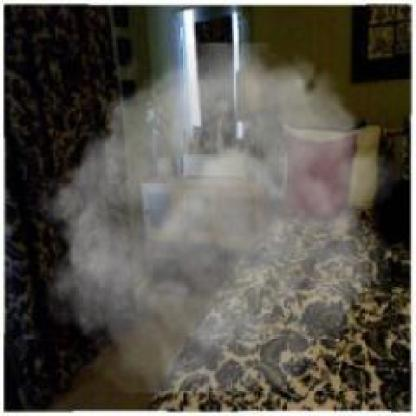Smoke: (34, 42, 399, 394)
